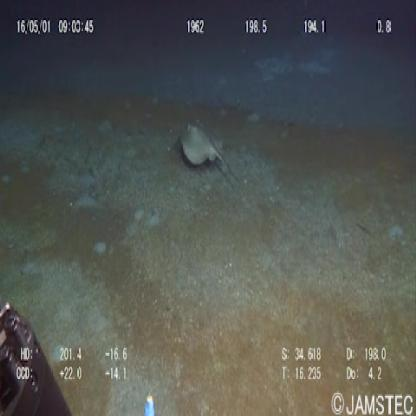Bio: (177, 116, 237, 184)
Rov: (1, 300, 74, 416)
